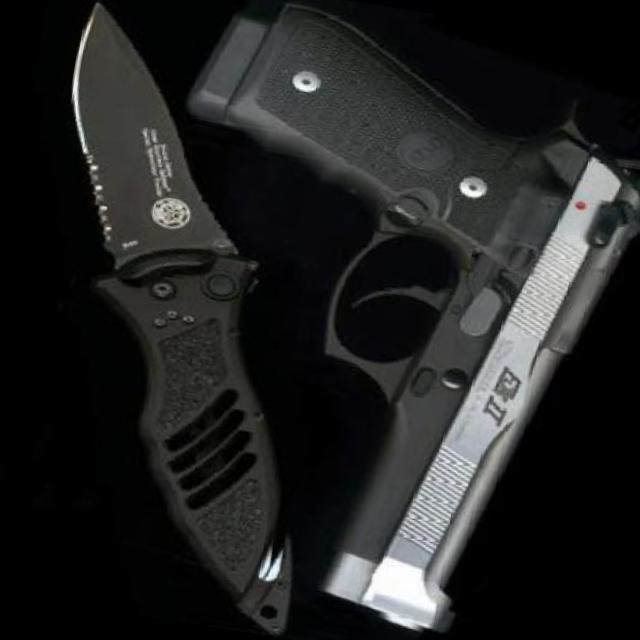gun: (108, 0, 640, 640)
knife: (0, 7, 372, 624)
